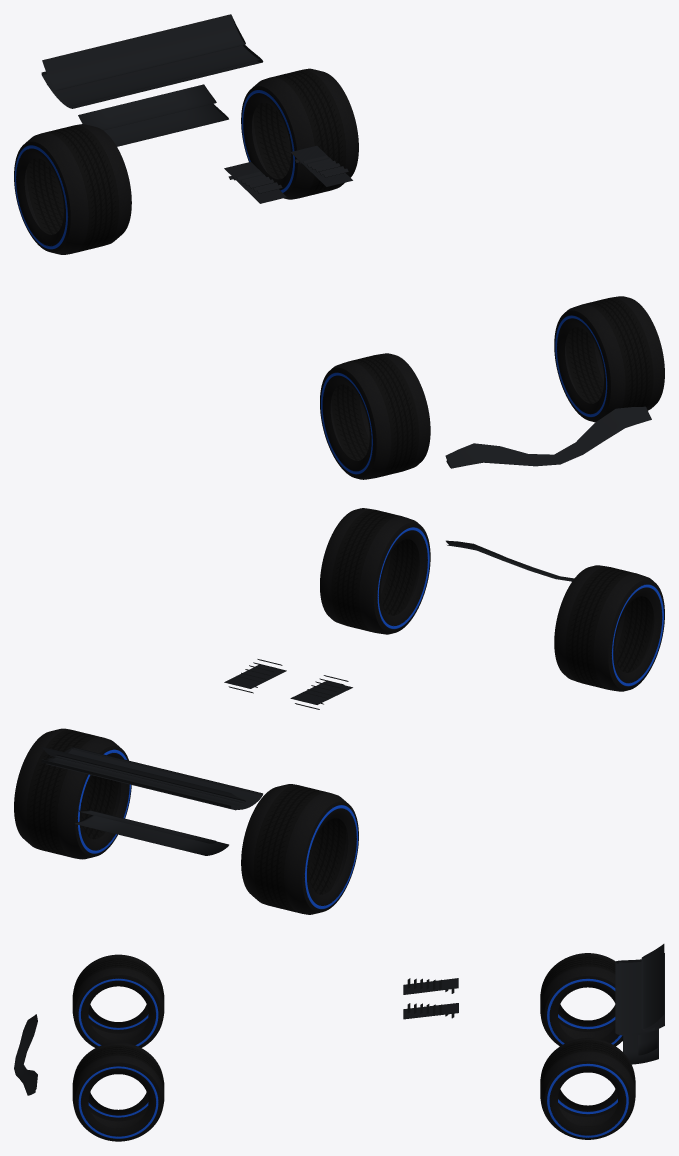
The model's file is sobressalentes-v1.glb.
3 views of the same model, one above another, from view 1: azimuth 30°, elevation 25°; view 2: azimuth 150°, elevation 25°; view 3: azimuth 270°, elevation 25° (orthographic). The views are drawn at different scales.
Visible parts, largest first — view 1: spare__tyres__chuva__rear_tire__01, spare__tyres__chuva__front_tire__01, spare__tyres__chuva__front_tire__02, spare__tyres__chuva__rear_tire__02, spare__rear_wing__alta__rear_wing_drs__01, spare__beam_wing__dupla__rear_wing_bottom_holder__01, spare__rear_wing__baixa__rear_wing_main_part__01, spare__front_wing__alta__front_wing_top__01, spare__cooling__aberto__main_body__01, spare__rear_wing__alta__rear_wing_main_part__01; view 2: spare__tyres__chuva__rear_tire__01, spare__tyres__chuva__front_tire__01, spare__tyres__chuva__front_tire__02, spare__tyres__chuva__rear_tire__02, spare__beam_wing__dupla__rear_wing_bottom_holder__01, spare__rear_wing__baixa__rear_wing_main_part__01, spare__cooling__aberto__main_body__01, spare__rear_wing__alta__rear_wing_drs__01, spare__rear_wing__alta__rear_wing_main_part__01, spare__rear_wing__baixa__rear_wing_drs__01; view 3: spare__tyres__chuva__rear_tire__02, spare__tyres__chuva__front_tire__02, spare__tyres__chuva__front_tire__01, spare__tyres__chuva__rear_tire__01, spare__rear_wing__baixa__rear_wing_main_part__01, spare__rear_wing__alta__rear_wing_drs__01, spare__cooling__aberto__main_body__01, spare__beam_wing__dupla__rear_wing_bottom_holder__01, spare__front_wing__alta__front_wing_top__01, spare__rear_wing__alta__rear_wing_main_part__01.
Part boxes in pixels (<box>): spare__tyres__chuva__rear_tire__01: <box>14,124,131,254</box>; spare__tyres__chuva__front_tire__01: <box>320,353,430,479</box>; spare__tyres__chuva__front_tire__02: <box>554,296,664,422</box>; spare__tyres__chuva__rear_tire__02: <box>241,68,358,199</box>; spare__rear_wing__alta__rear_wing_drs__01: <box>42,14,245,90</box>; spare__beam_wing__dupla__rear_wing_bottom_holder__01: <box>78,84,228,146</box>; spare__rear_wing__baixa__rear_wing_main_part__01: <box>47,45,260,105</box>; spare__front_wing__alta__front_wing_top__01: <box>445,406,651,468</box>; spare__cooling__aberto__main_body__01: <box>224,145,352,203</box>; spare__rear_wing__alta__rear_wing_main_part__01: <box>41,45,263,108</box>; spare__tyres__chuva__rear_tire__01: <box>241,784,358,914</box>; spare__tyres__chuva__front_tire__01: <box>554,565,664,691</box>; spare__tyres__chuva__front_tire__02: <box>320,508,430,634</box>; spare__tyres__chuva__rear_tire__02: <box>14,728,131,859</box>; spare__beam_wing__dupla__rear_wing_bottom_holder__01: <box>75,810,228,855</box>; spare__rear_wing__baixa__rear_wing_main_part__01: <box>46,748,260,810</box>; spare__cooling__aberto__main_body__01: <box>224,659,352,709</box>; spare__rear_wing__alta__rear_wing_drs__01: <box>42,747,245,802</box>; spare__rear_wing__alta__rear_wing_main_part__01: <box>41,747,262,809</box>; spare__rear_wing__baixa__rear_wing_drs__01: <box>46,757,244,805</box>; spare__tyres__chuva__rear_tire__02: <box>540,1038,635,1139</box>; spare__tyres__chuva__front_tire__02: <box>72,1042,164,1141</box>; spare__tyres__chuva__front_tire__01: <box>72,954,164,1047</box>; spare__tyres__chuva__rear_tire__01: <box>540,953,622,1046</box>; spare__rear_wing__baixa__rear_wing_main_part__01: <box>618,960,657,1033</box>; spare__rear_wing__alta__rear_wing_drs__01: <box>641,944,664,1029</box>; spare__cooling__aberto__main_body__01: <box>403,978,458,1019</box>; spare__beam_wing__dupla__rear_wing_bottom_holder__01: <box>623,1029,658,1064</box>; spare__front_wing__alta__front_wing_top__01: <box>14,1014,37,1095</box>; spare__rear_wing__alta__rear_wing_main_part__01: <box>615,953,664,1035</box>.
Size of the model in its own units: 1.85 by 0.8766 by 4.66.
Materials: 7 (7 with a texture image).
